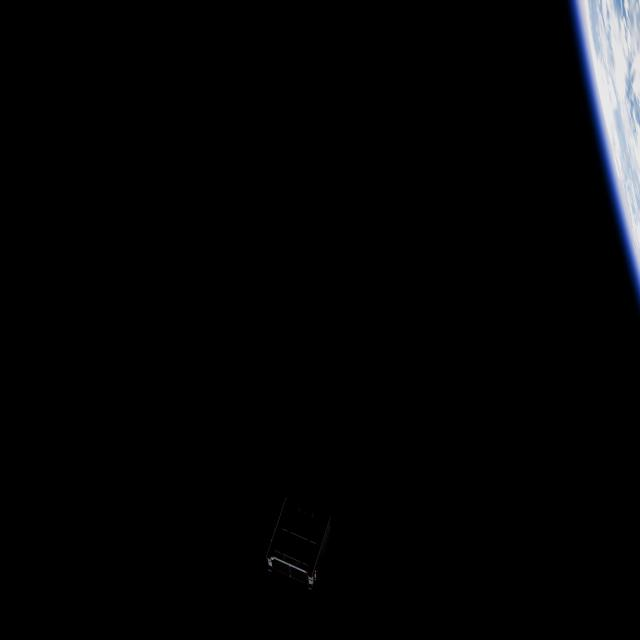medium_debris: (264, 492, 339, 588)
